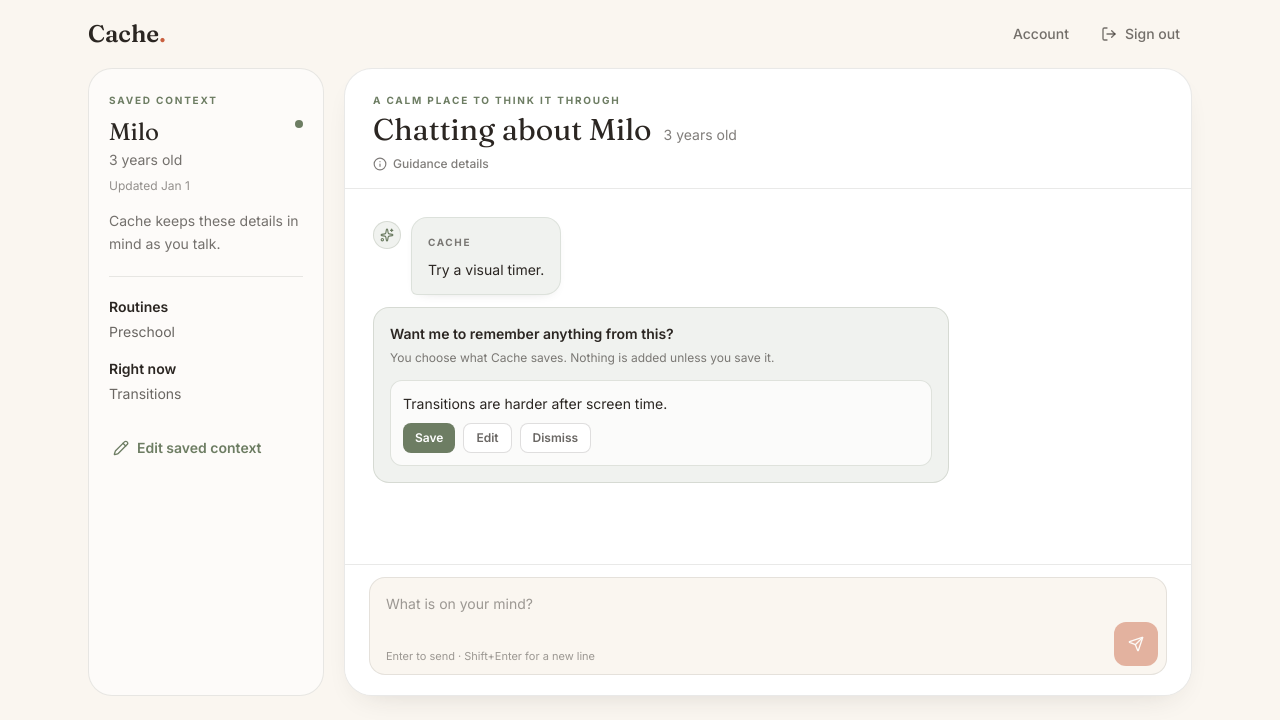
CacheApp › shows persisted memory suggestions below the related Cache reply and dismisses one explicitly
This screenshot has width=1280, height=720.
expect the text "Want me to remember anything from this?" is shown: met, box x1=390 y1=325 x2=674 y2=342
expect the text "Transitions are harder after screen time." is shown: met, box x1=403 y1=394 x2=667 y2=412
Click the button "Dismiss": (555, 438) x1=520 y1=423 x2=591 y2=453
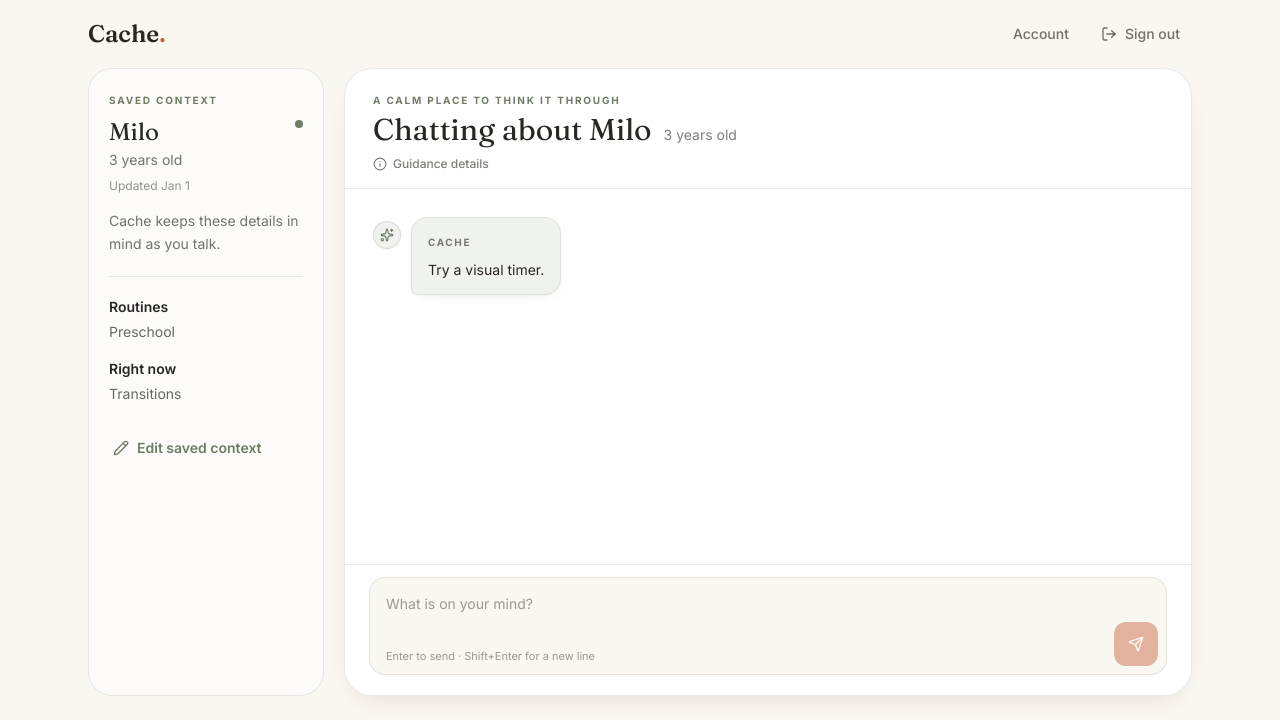
expect the text "Transitions are harder after screen time." is gone: met
